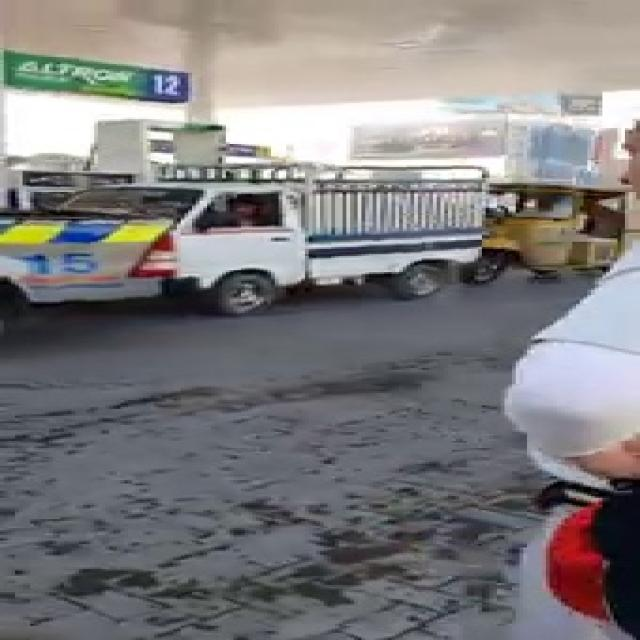police: (10, 202, 210, 335), (107, 297, 135, 302)
